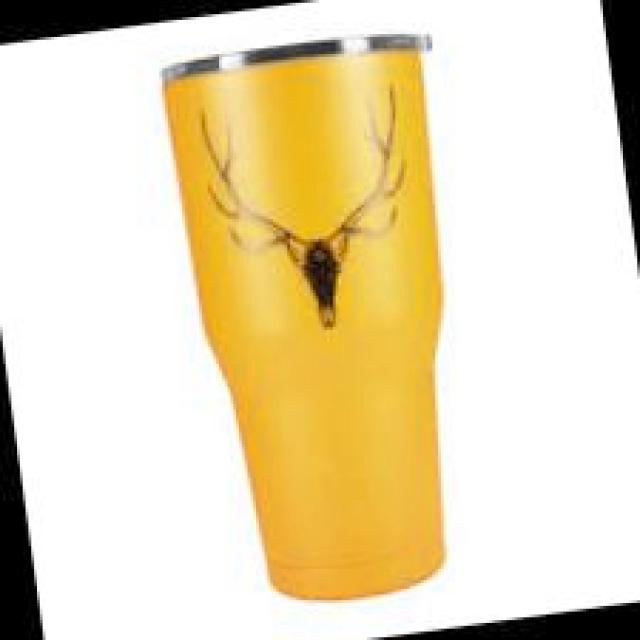bottle: (142, 11, 509, 620)
